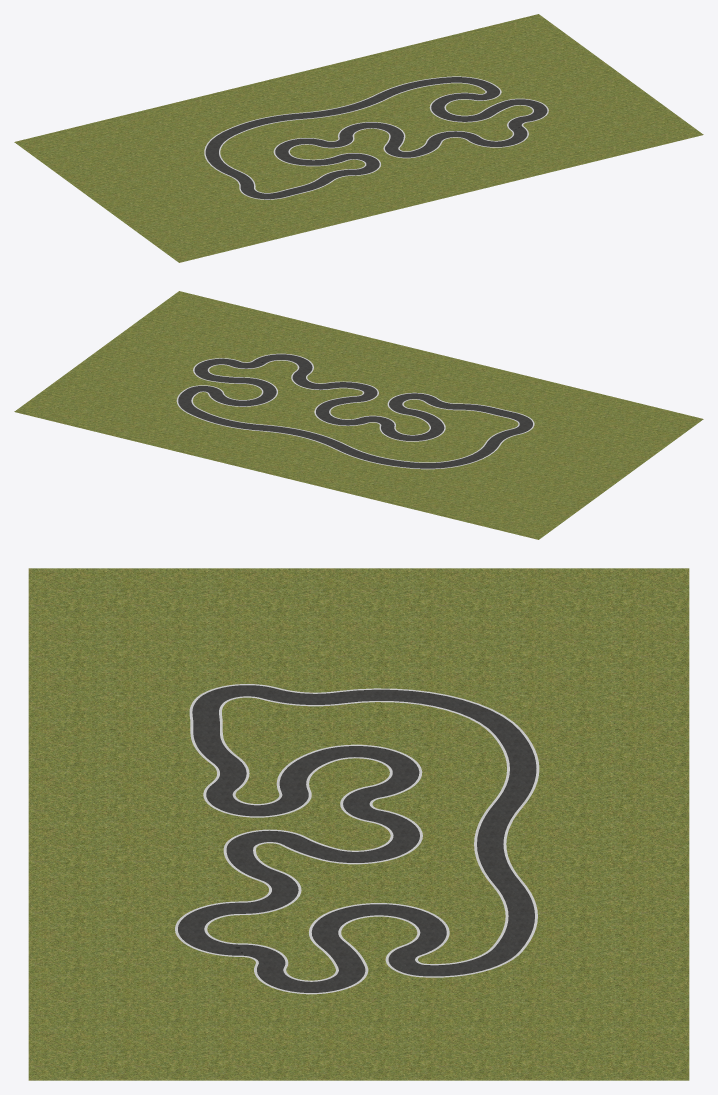
The model's file is track15.dae.
3 renders of one model, top to bottom at view 1: azimuth 30°, elevation 25°; view 2: azimuth 150°, elevation 25°; view 3: azimuth 270°, elevation 25°, orthographic. The views are drawn at different scales.
Parts seen in each view (by area): view 1: field, road, outerline, innerline; view 2: field, road, outerline, innerline; view 3: field, road, outerline, innerline.
Part boxes in pixels (x1,y1,x2,y2): field: (14,14,703,262); road: (205,77,547,199); outerline: (204,76,548,199); innerline: (219,82,533,193); field: (14,291,703,539); road: (178,354,532,468); outerline: (176,353,534,469); innerline: (191,360,519,462); field: (28,568,689,1080); road: (178,685,536,992); outerline: (175,684,539,994); innerline: (204,696,509,981).
Size of the model in its own units: 74.83 by 40.8 by 0.01.
3 materials, 3 textured.
